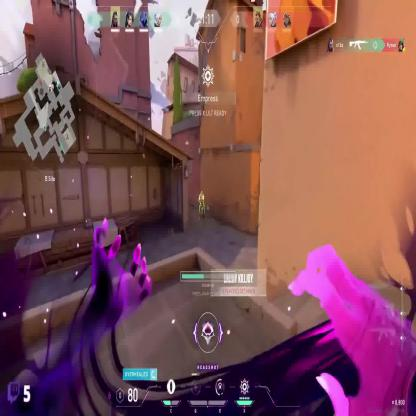enemy: (198, 191, 205, 220)
enemy_head: (200, 191, 203, 196)
